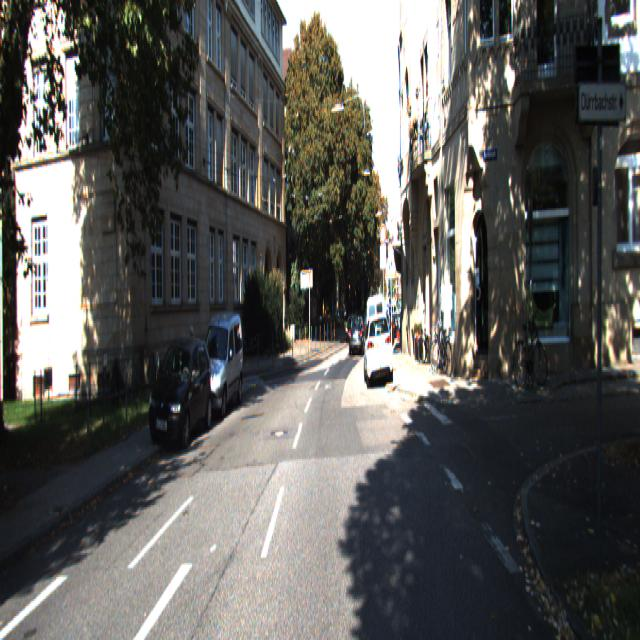Car: (144, 331, 214, 456), (193, 310, 244, 426), (363, 310, 393, 390), (366, 290, 386, 377), (349, 314, 364, 357)
